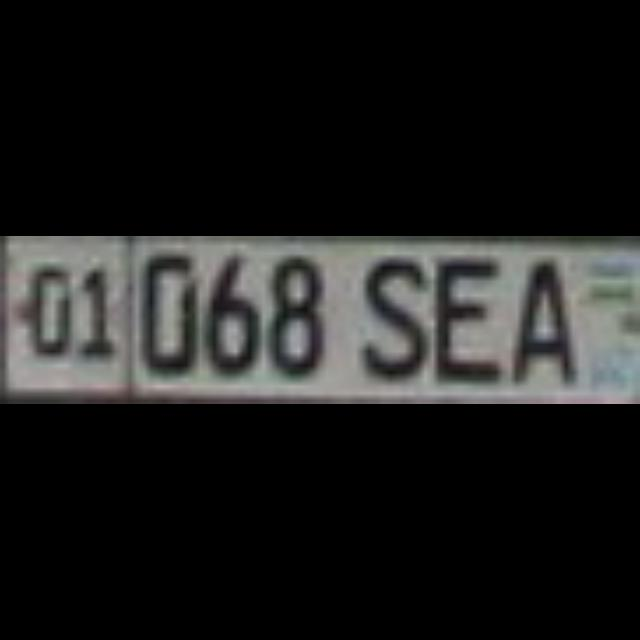0: (134, 243, 190, 363), (21, 258, 63, 348)
1: (70, 258, 106, 348)
6: (197, 243, 253, 363)
8: (260, 243, 316, 363)
A: (500, 243, 570, 377)
E: (422, 242, 500, 370)
S: (352, 242, 422, 370)
